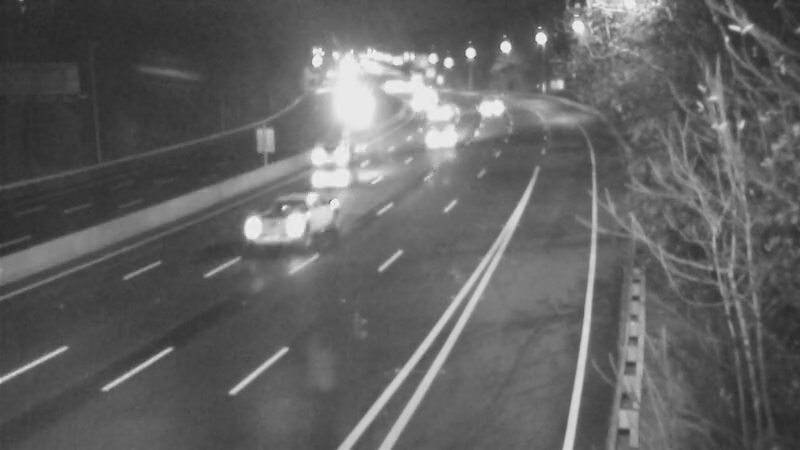vehicle: (287, 112, 367, 192), (298, 136, 378, 216), (248, 187, 328, 267), (391, 71, 441, 121), (464, 83, 514, 133), (412, 86, 462, 136), (419, 108, 469, 158)
